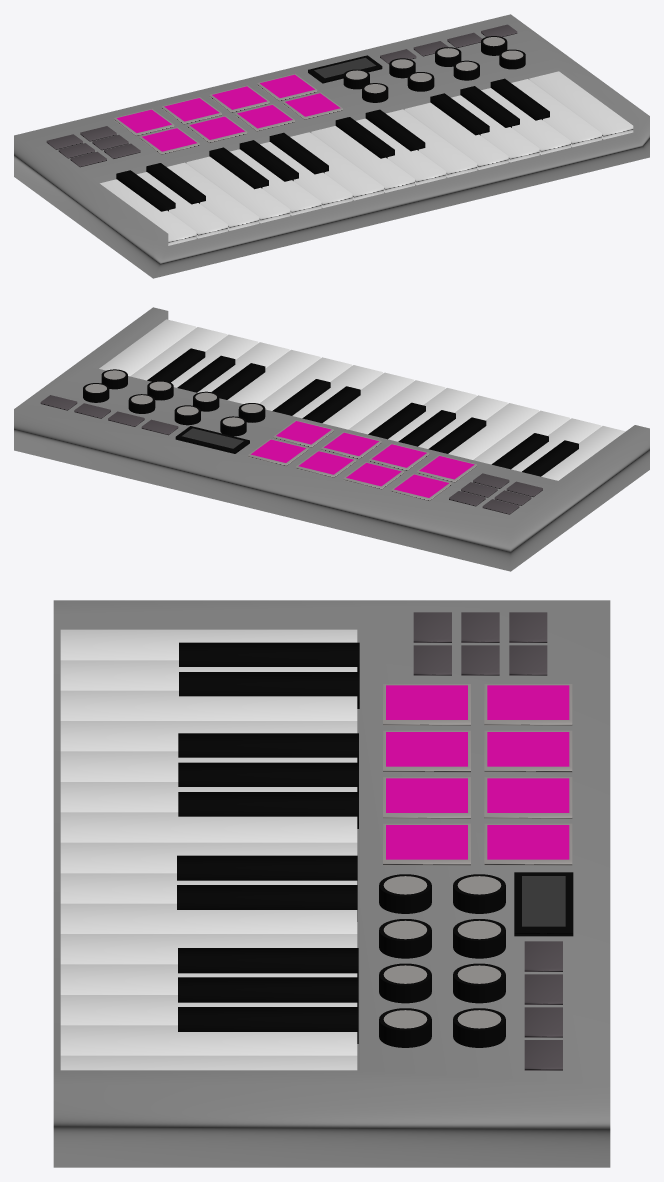
File: keyboard.glb
The picture shows the model from 3 angles, top to bottom: view 1: azimuth 30°, elevation 25°; view 2: azimuth 150°, elevation 25°; view 3: azimuth 270°, elevation 25°; orthographic projection. The views are drawn at different scales.
Visible parts, largest first — view 1: Cube, key, pads, Cylinder, black key1.003, black key1.001, Cube.001, black key1.002, black key1, Cube.002, Cube.003; view 2: Cube, key, pads, Cylinder, black key1.001, black key1.003, Cube.001, black key1.002, black key1, Cube.002, Cube.003; view 3: Cube, key, pads, Cylinder, black key1.003, black key1.001, black key1.002, black key1, Cube.001, Cube.002, Cube.003.
Boxes of the visible parts, x1=… form: Cube: x1=14, y1=14, x2=649, y2=278; key: x1=100, y1=71, x2=633, y2=245; pads: x1=114, y1=73, x2=342, y2=154; Cylinder: x1=343, y1=36, x2=525, y2=102; black key1.003: x1=430, y1=78, x2=549, y2=135; black key1.001: x1=209, y1=132, x2=328, y2=189; Cube.001: x1=46, y1=126, x2=140, y2=167; black key1.002: x1=335, y1=109, x2=425, y2=158; black key1: x1=116, y1=163, x2=205, y2=211; Cube.002: x1=380, y1=24, x2=517, y2=64; Cube.003: x1=308, y1=55, x2=382, y2=83; Cube: x1=14, y1=307, x2=649, y2=571; key: x1=99, y1=319, x2=625, y2=480; pads: x1=248, y1=420, x2=476, y2=501; Cylinder: x1=83, y1=369, x2=265, y2=436; black key1.001: x1=368, y1=402, x2=486, y2=453; black key1.003: x1=147, y1=348, x2=265, y2=399; Cube.001: x1=449, y1=473, x2=542, y2=514; black key1.002: x1=272, y1=379, x2=360, y2=422; black key1: x1=491, y1=433, x2=578, y2=476; Cube.002: x1=40, y1=395, x2=178, y2=435; Cube.003: x1=175, y1=426, x2=249, y2=453; Cube: x1=53, y1=600, x2=610, y2=1167; key: x1=60, y1=629, x2=357, y2=1070; pads: x1=383, y1=684, x2=572, y2=865; Cylinder: x1=379, y1=874, x2=505, y2=1047; black key1.003: x1=178, y1=948, x2=358, y2=1043; black key1.001: x1=178, y1=733, x2=358, y2=828; black key1.002: x1=177, y1=855, x2=357, y2=921; black key1: x1=179, y1=642, x2=359, y2=708; Cube.001: x1=413, y1=612, x2=547, y2=675; Cube.002: x1=524, y1=941, x2=562, y2=1070; Cube.003: x1=514, y1=872, x2=573, y2=936.
Size of the model in its own units: 4.5 by 0.4334 by 2.19.
